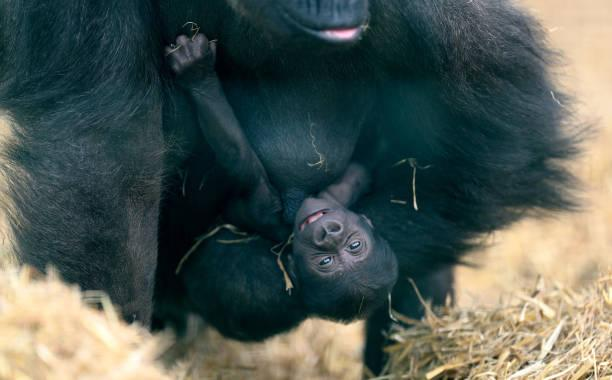gorille_Autres: (6, 0, 612, 345), (193, 130, 419, 314)
